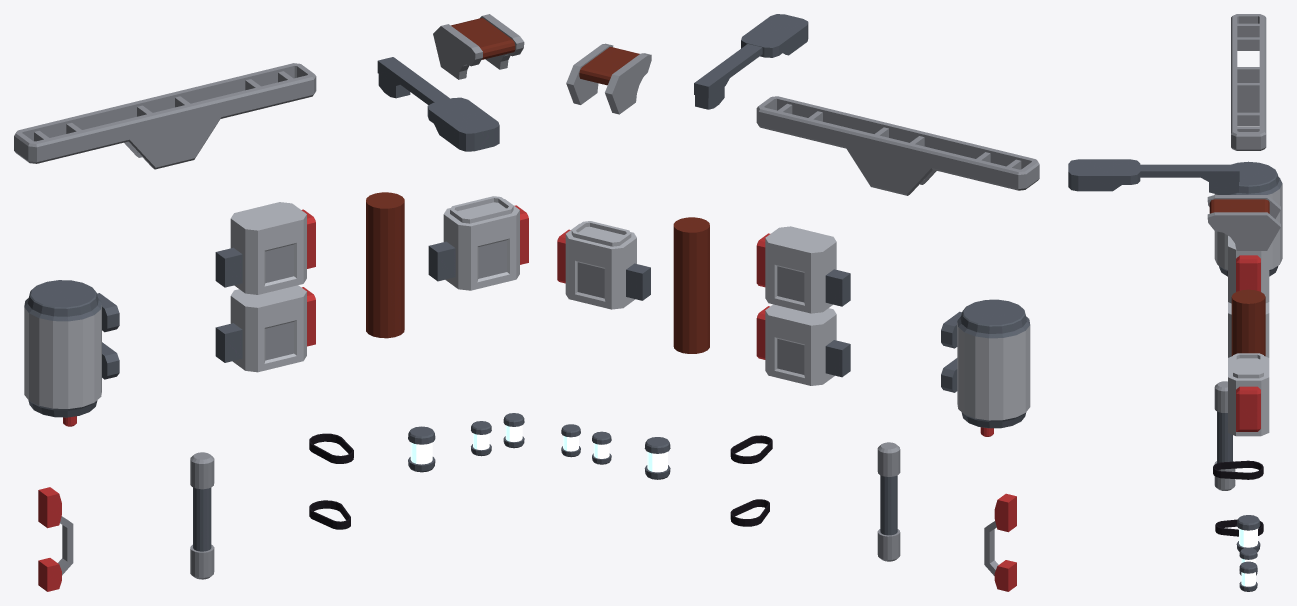
The model's file is elPole_06.glb.
3 views of the same model, side by side, from view 1: azimuth 30°, elevation 25°; view 2: azimuth 150°, elevation 25°; view 3: azimuth 270°, elevation 25° (orthographic). The views are drawn at different scales.
Visible parts, largest first — view 1: geometry_0, geometry_5; view 2: geometry_0, geometry_5; view 3: geometry_0, geometry_5.
Boxes of the visible parts, <box> form: geometry_0: <box>14,14,528,591</box>; geometry_5: <box>410,425,522,464</box>; geometry_0: <box>557,14,1039,591</box>; geometry_5: <box>563,435,667,472</box>; geometry_0: <box>1068,14,1282,591</box>; geometry_5: <box>1239,528,1257,586</box>.
Bounding box in the file's own units: 1.53 × 1.36 × 0.6538.
Materials: 3 (3 with a texture image).
